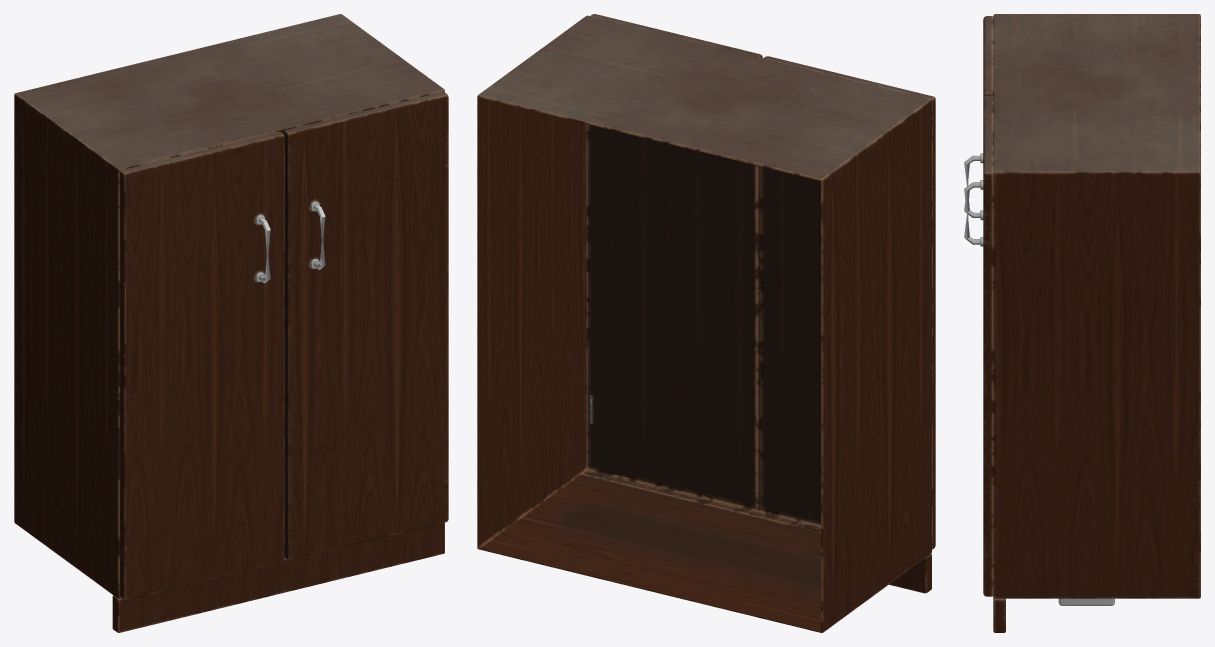
The model's file is kit_upper_60_light.glb.
3 renders of one model, left to right at view 1: azimuth 30°, elevation 25°; view 2: azimuth 150°, elevation 25°; view 3: azimuth 270°, elevation 25°, orthographic. The views are drawn at different scales.
Parts seen in each view (by area): view 1: kit_upper_60_light; view 2: kit_upper_60_light; view 3: kit_upper_60_light.
Boxes of the visible parts, x1,y1,x2,y2 form: kit_upper_60_light: [14, 14, 448, 632]; kit_upper_60_light: [477, 14, 935, 632]; kit_upper_60_light: [964, 14, 1200, 632].
Size of the model in its own units: 0.598 by 0.81 by 0.3768.
1 material, 1 textured.
